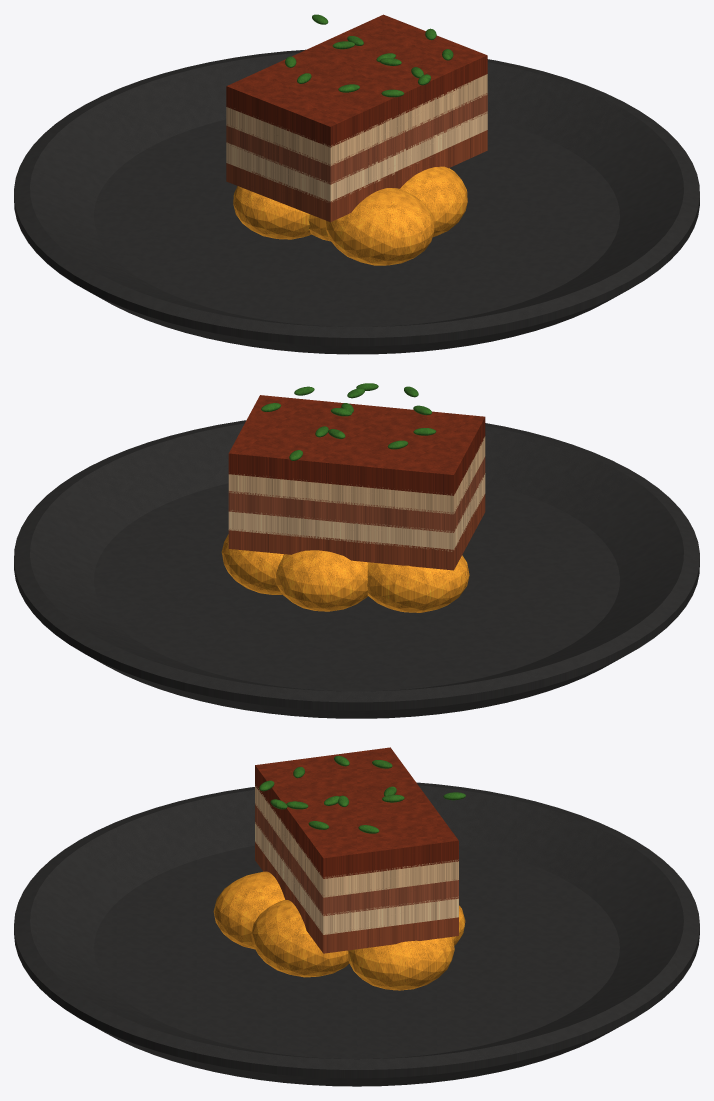
Rendered from cerdo-guayaba.glb.
3 renders of one model, top to bottom at view 1: azimuth 30°, elevation 25°; view 2: azimuth 150°, elevation 25°; view 3: azimuth 270°, elevation 25°, orthographic.
Visible parts, largest first — view 1: part0, part6, part1, part5, part4, part3, part2, part7; view 2: part0, part6, part1, part4, part2, part3, part5, part7; view 3: part0, part6, part1, part3, part5, part4, part2, part7.
Boxes of the visible parts, x1,y1,x2,y2 form: part0: [14, 49, 699, 354]; part6: [226, 14, 487, 147]; part1: [233, 166, 467, 265]; part5: [226, 74, 487, 166]; part4: [226, 93, 487, 184]; part3: [226, 111, 487, 202]; part2: [226, 130, 487, 222]; part7: [285, 14, 453, 97]; part0: [14, 420, 699, 718]; part6: [228, 395, 485, 495]; part1: [221, 534, 469, 612]; part4: [228, 456, 485, 532]; part2: [228, 494, 485, 570]; part3: [228, 473, 485, 551]; part5: [228, 436, 485, 514]; part7: [261, 383, 436, 460]; part0: [14, 782, 699, 1086]; part6: [255, 747, 458, 878]; part1: [213, 871, 465, 990]; part3: [255, 822, 458, 934]; part5: [255, 784, 458, 897]; part4: [255, 803, 458, 915]; part2: [255, 841, 458, 953]; part7: [259, 755, 465, 833].
Bounding box in the file's own units: 0.3 × 0.0895 × 0.3.
Materials: 8 (8 with a texture image).
